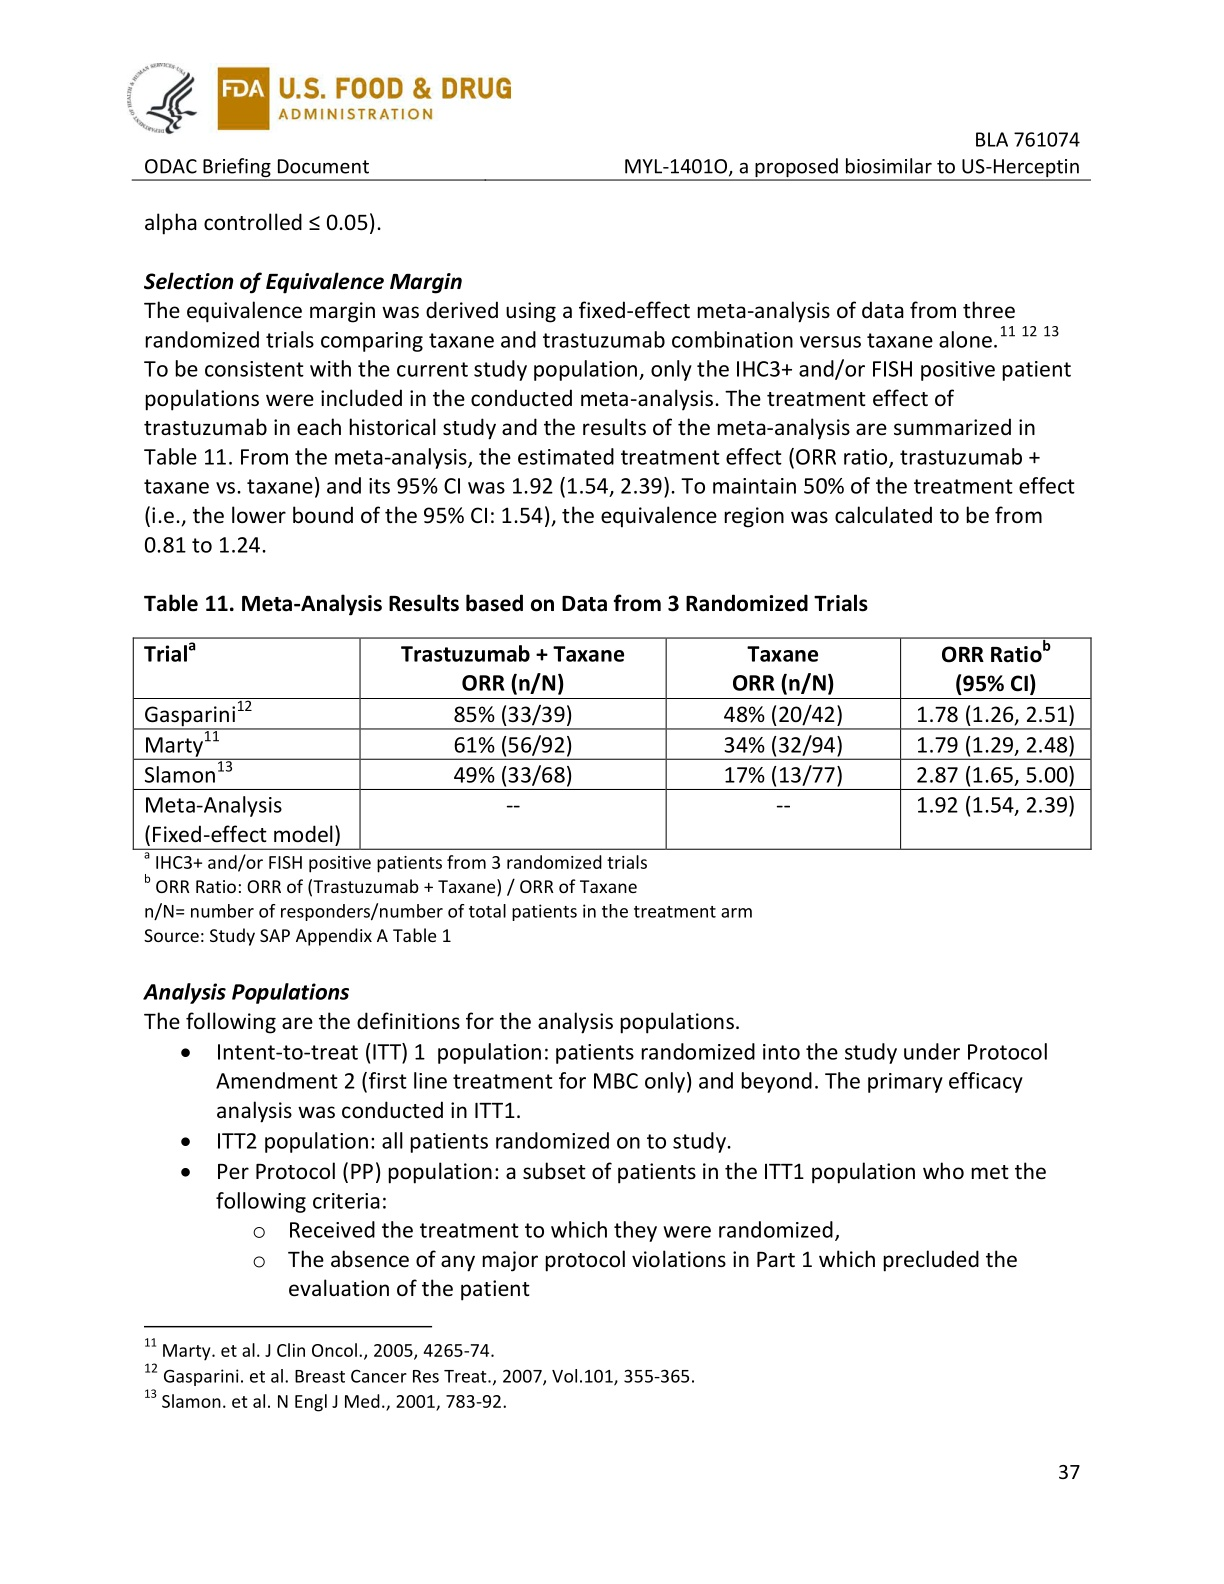full_lined: (131, 636, 1093, 852)
